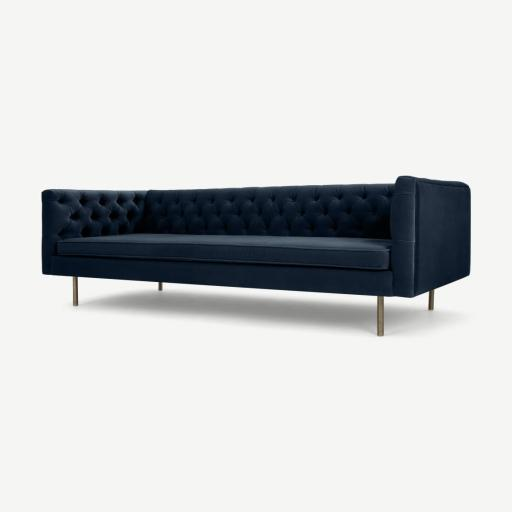back_cushion: (145, 185, 395, 239)
base: (52, 256, 392, 296)
left_arm: (390, 176, 470, 309)
legs: (377, 297, 383, 336), (73, 276, 78, 306), (429, 292, 433, 310), (158, 282, 163, 291)
right_arm: (42, 189, 167, 273)
seat_cushion: (58, 234, 391, 270)
two-seater: (0, 0, 511, 512)
